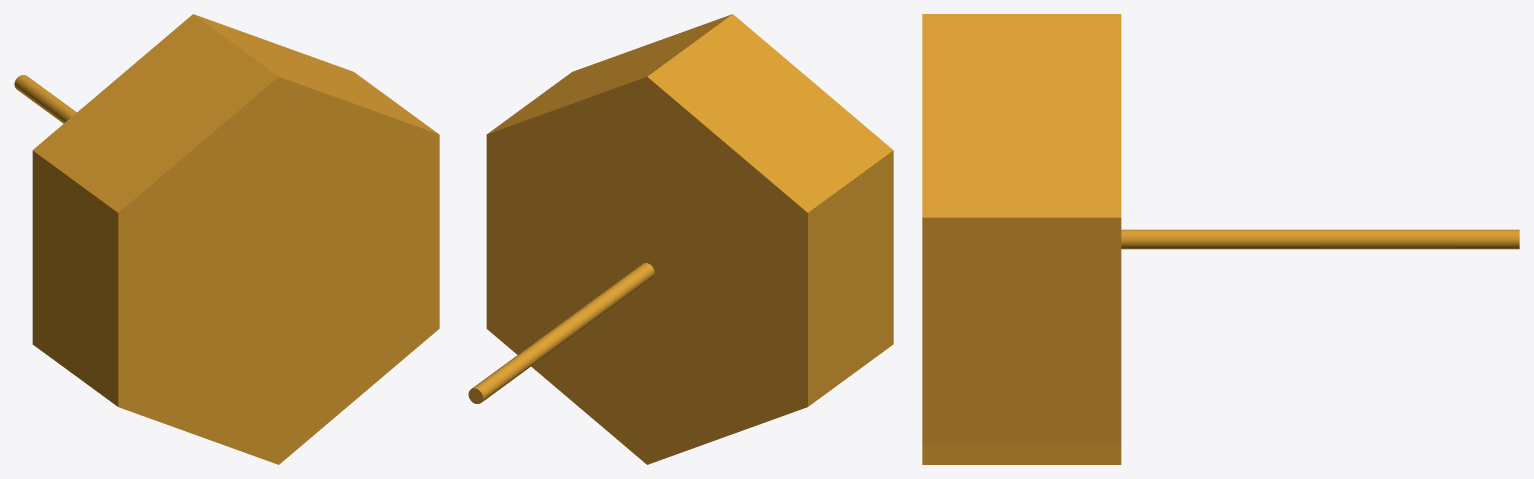
The model's file is Rover_Body.obj.
3 views of the same model, side by side, from view 1: azimuth 30°, elevation 25°; view 2: azimuth 150°, elevation 25°; view 3: azimuth 270°, elevation 25° (orthographic). The views are drawn at different scales.
Visible parts, largest first — view 1: Body; view 2: Body; view 3: Body.
Boxes of the visible parts, x1,y1,x2,y2 form: Body: (14, 14, 439, 464); Body: (468, 14, 893, 464); Body: (922, 14, 1519, 464).
Size of the model in its own units: 4.33 by 5 by 6.
